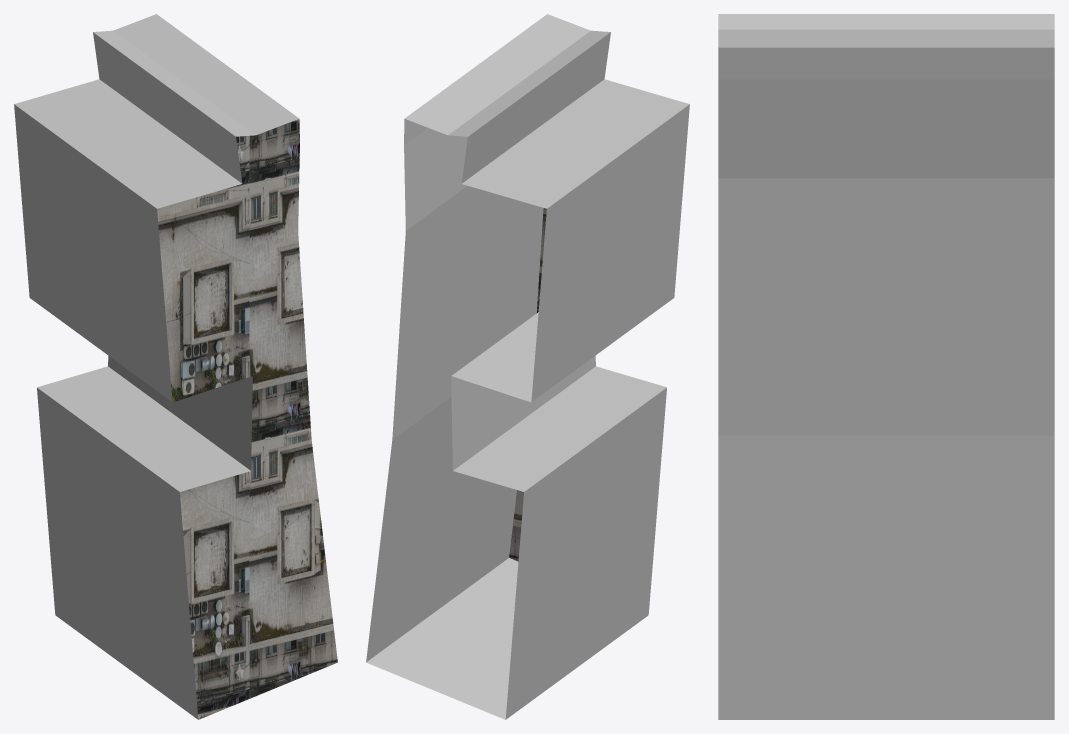
The model's file is geospecific_1783.obj.
3 renders of one model, left to right at view 1: azimuth 30°, elevation 25°; view 2: azimuth 150°, elevation 25°; view 3: azimuth 270°, elevation 25°, orthographic. The views are drawn at different scales.
Parts seen in each view (by area): view 1: Building; view 2: Building; view 3: Building.
Part boxes in pixels (x1,y1,x2,y2): Building: (14, 14, 337, 719); Building: (366, 14, 689, 719); Building: (718, 14, 1054, 719).
Size of the model in its own units: 6.57 by 20.02 by 9.
